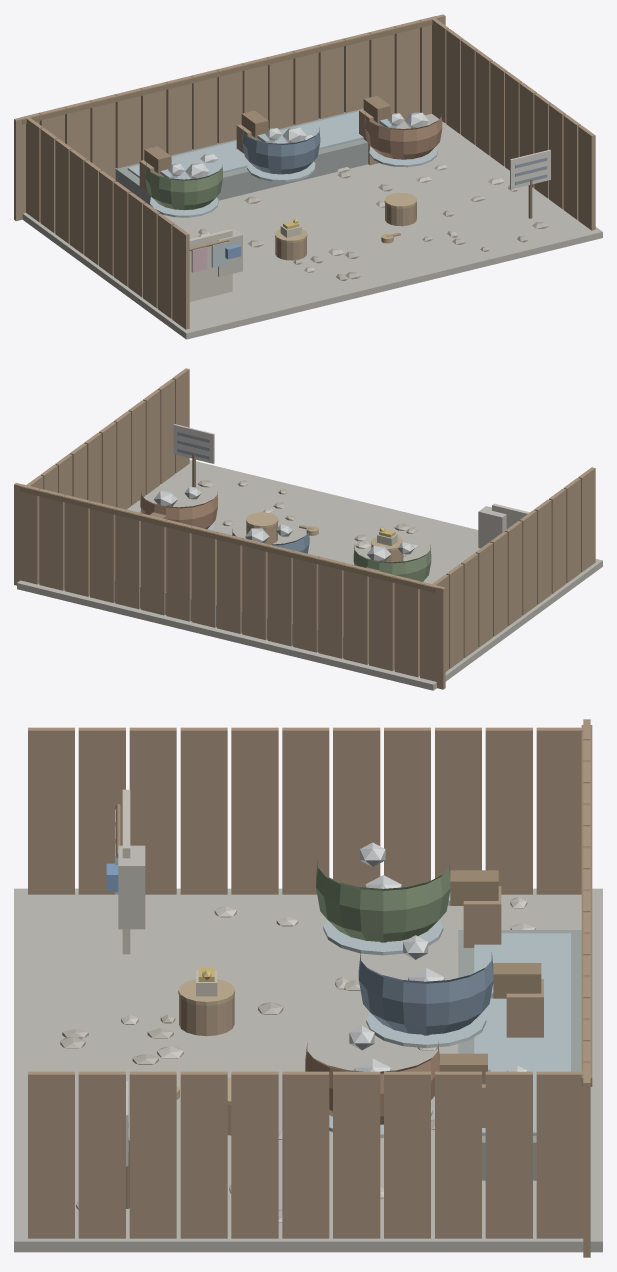
The model's file is onsen.glb.
The picture shows the model from 3 angles, top to bottom: view 1: azimuth 30°, elevation 25°; view 2: azimuth 150°, elevation 25°; view 3: azimuth 270°, elevation 25°; orthographic projection. The views are drawn at different scales.
Visible parts, largest first — view 1: part_07, part_12, part_10, part_05, part_06, part_00, part_08, part_02, part_18, part_17, part_09, part_22 (+3 smaller); view 2: part_07, part_12, part_05, part_08, part_17, part_02, part_22, part_14, part_11, part_09; view 3: part_07, part_12, part_10, part_05, part_00, part_02, part_06, part_17, part_14, part_09, part_13, part_08 (+2 smaller).
Part boxes in pixels (x1=…): part_07: x1=14, y1=14, x2=595, y2=329; part_12: x1=22, y1=113, x2=602, y2=339; part_10: x1=127, y1=111, x2=437, y2=267; part_05: x1=20, y1=16, x2=439, y2=250; part_06: x1=115, y1=108, x2=394, y2=213; part_00: x1=242, y1=127, x2=320, y2=174; part_08: x1=364, y1=112, x2=442, y2=159; part_02: x1=145, y1=162, x2=222, y2=210; part_18: x1=189, y1=229, x2=232, y2=301; part_17: x1=168, y1=112, x2=428, y2=178; part_09: x1=198, y1=124, x2=549, y2=280; part_22: x1=510, y1=149, x2=550, y2=189; part_07: x1=14, y1=368, x2=595, y2=689; part_12: x1=17, y1=460, x2=602, y2=690; part_05: x1=20, y1=484, x2=438, y2=593; part_08: x1=140, y1=491, x2=217, y2=528; part_17: x1=154, y1=487, x2=414, y2=561; part_02: x1=353, y1=545, x2=431, y2=581; part_22: x1=173, y1=424, x2=214, y2=463; part_14: x1=478, y1=506, x2=506, y2=548; part_11: x1=246, y1=512, x2=403, y2=551; part_09: x1=197, y1=480, x2=417, y2=556; part_07: x1=28, y1=719, x2=590, y2=1257; part_12: x1=14, y1=888, x2=602, y2=1252; part_10: x1=115, y1=843, x2=570, y2=1137; part_05: x1=115, y1=725, x2=592, y2=1086; part_00: x1=358, y1=952, x2=493, y2=1034; part_02: x1=316, y1=860, x2=450, y2=941; part_06: x1=458, y1=930, x2=581, y2=1180; part_17: x1=349, y1=842, x2=444, y2=1071; part_14: x1=118, y1=845, x2=145, y2=929; part_09: x1=60, y1=980, x2=437, y2=1209; part_13: x1=121, y1=897, x2=535, y2=1222; part_08: x1=305, y1=1042, x2=439, y2=1124.
Bounding box in the file's own units: 16.08 × 3.6 × 11.
